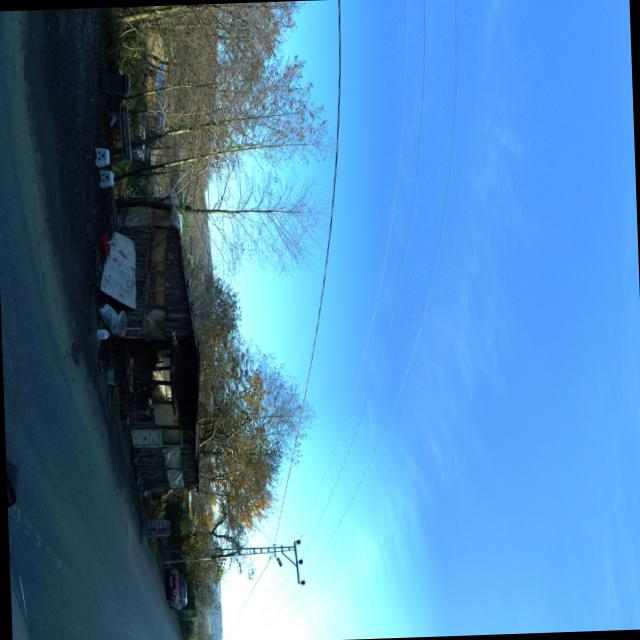Utility Pole Information Plate: (210, 557, 214, 559)
